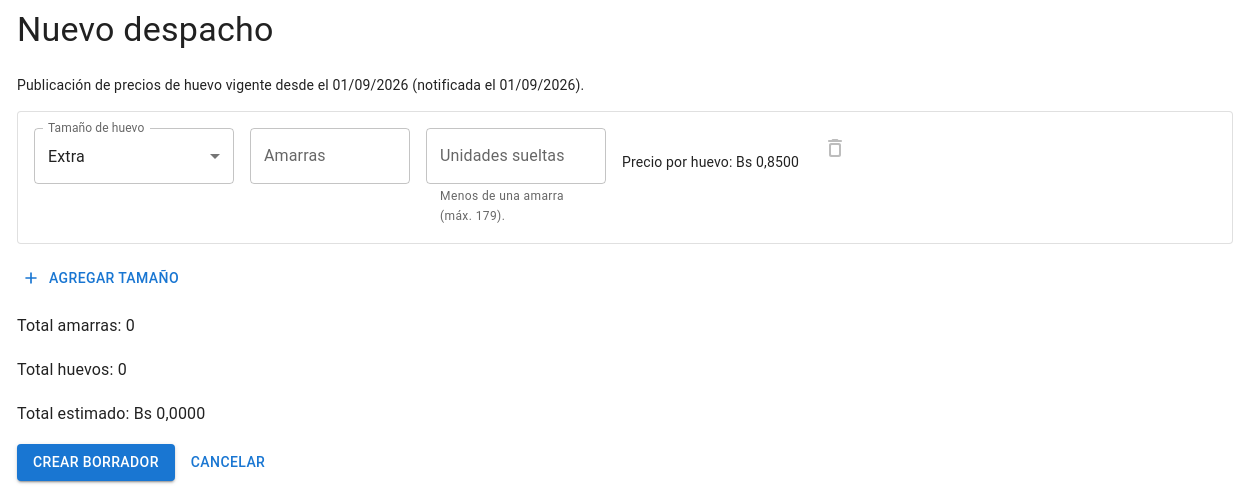
Test: DespachoHuevoFormularioPage › muestra el precio vigente por tamaño en el combo
Check: the text "vigente desde el 01/09/2026 (notificada el 01/09/2026)" is shown, box [17,77,584,93]
Click the dropdown named "Tamaño de huevo" at (66, 156), box [48,146,85,166]
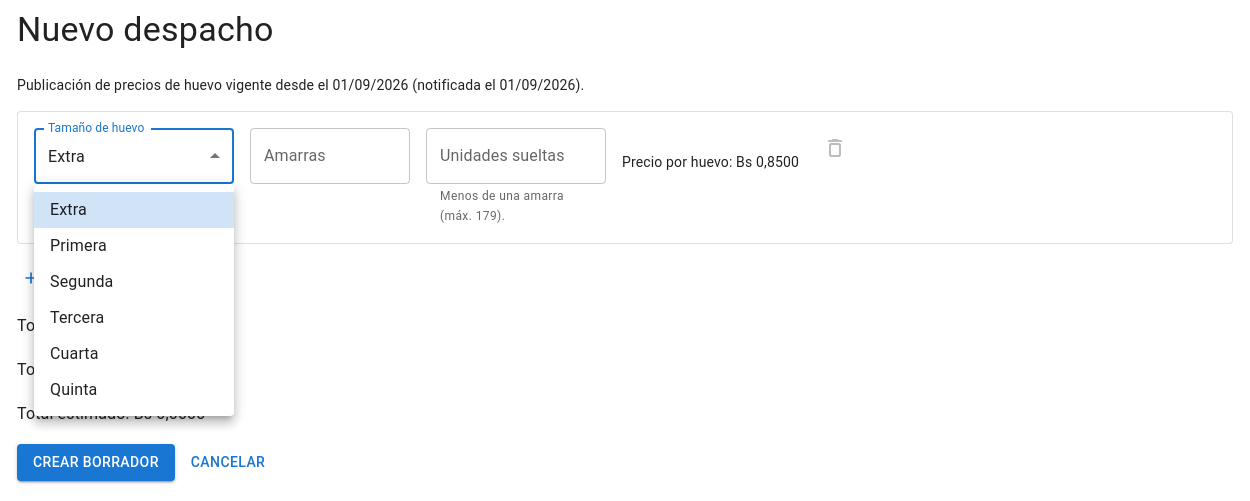
Check: the option "Primera" is shown, box [50,236,107,255]
